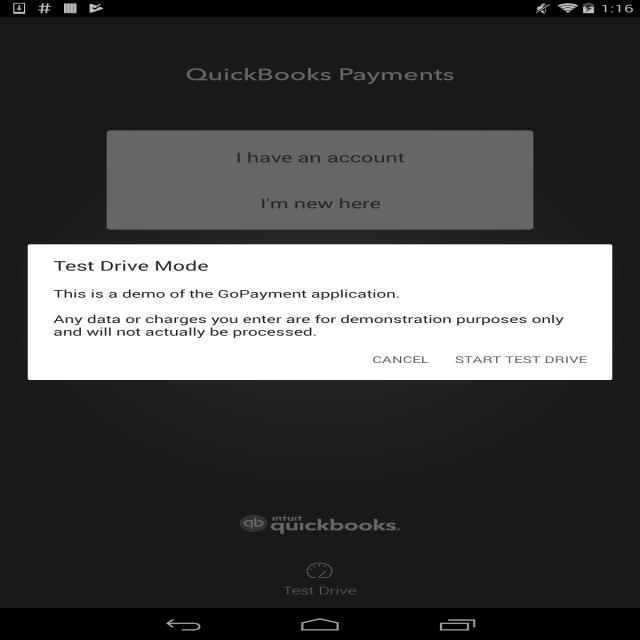ImageView: (296, 558, 341, 580), (233, 513, 269, 535)
TextView: (179, 61, 467, 86), (50, 284, 400, 303), (233, 150, 419, 170), (250, 194, 403, 213), (42, 255, 212, 272), (452, 349, 591, 368), (274, 515, 403, 533)
